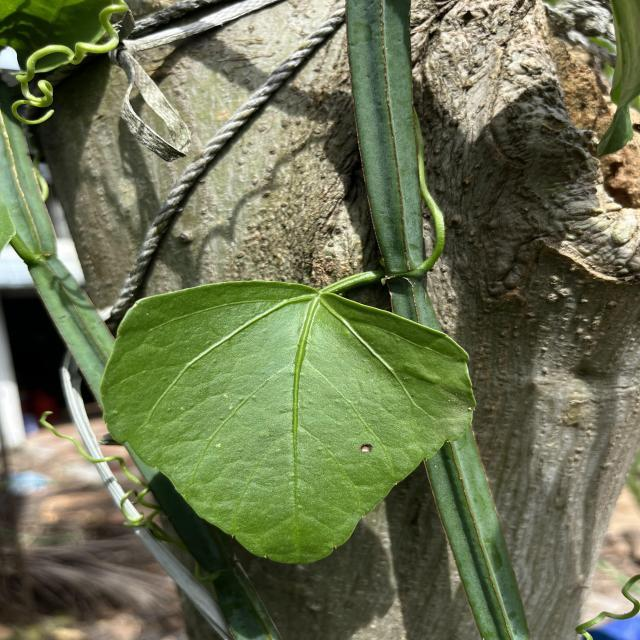Cissus quadrangularis: (94, 274, 480, 568)
